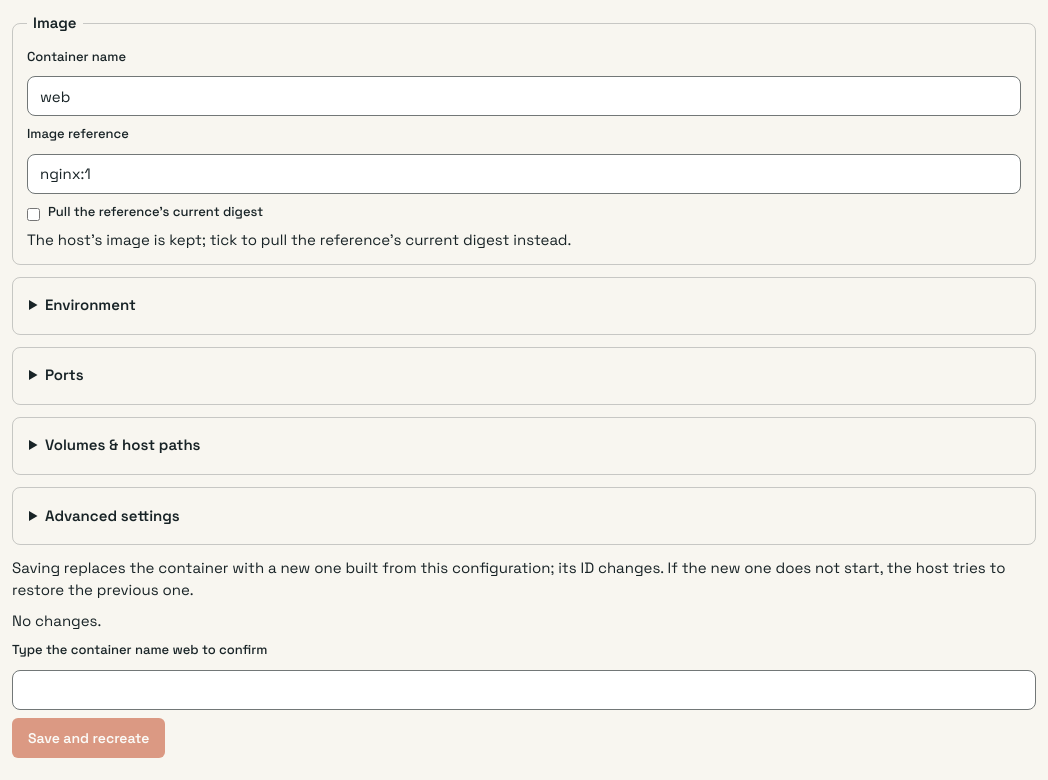
Scenario: says the host image is kept until pulling is ticked
The width and height of the screenshot is (1048, 780).
Expected: the text "The host's image is kept; tick to pull the reference's current digest instead." is shown, x1=27 y1=230 x2=571 y2=249
Click the checkbox labelled "Pull the reference's current digest" at (34, 214), box x1=27 y1=208 x2=40 y2=221
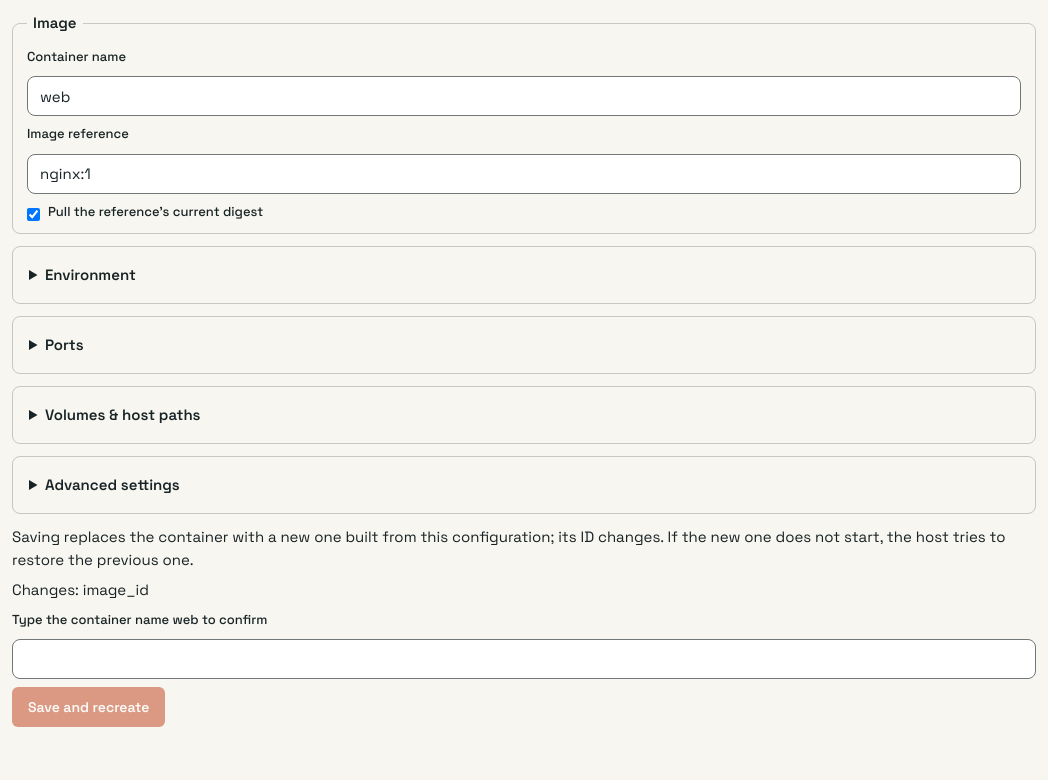
Expected: the text "The host's image is kept; tick to pull the reference's current digest instead." is gone
